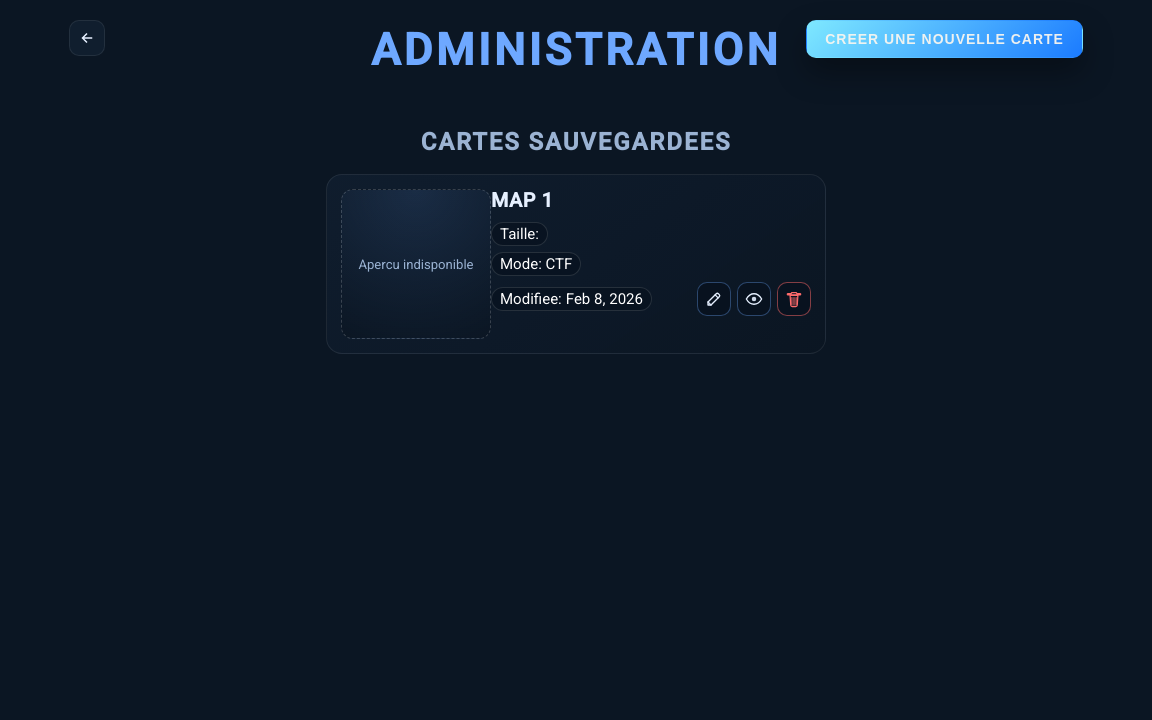
Test: AdminPageComponent › should show an error when delete fails
Expected: the element that starts with "Apercu indisponible" is shown, top-left (326, 174), bottom-right (826, 354)
Click the button named "Supprimer". click: (794, 299)
box: top-left (777, 282), bottom-right (811, 316)
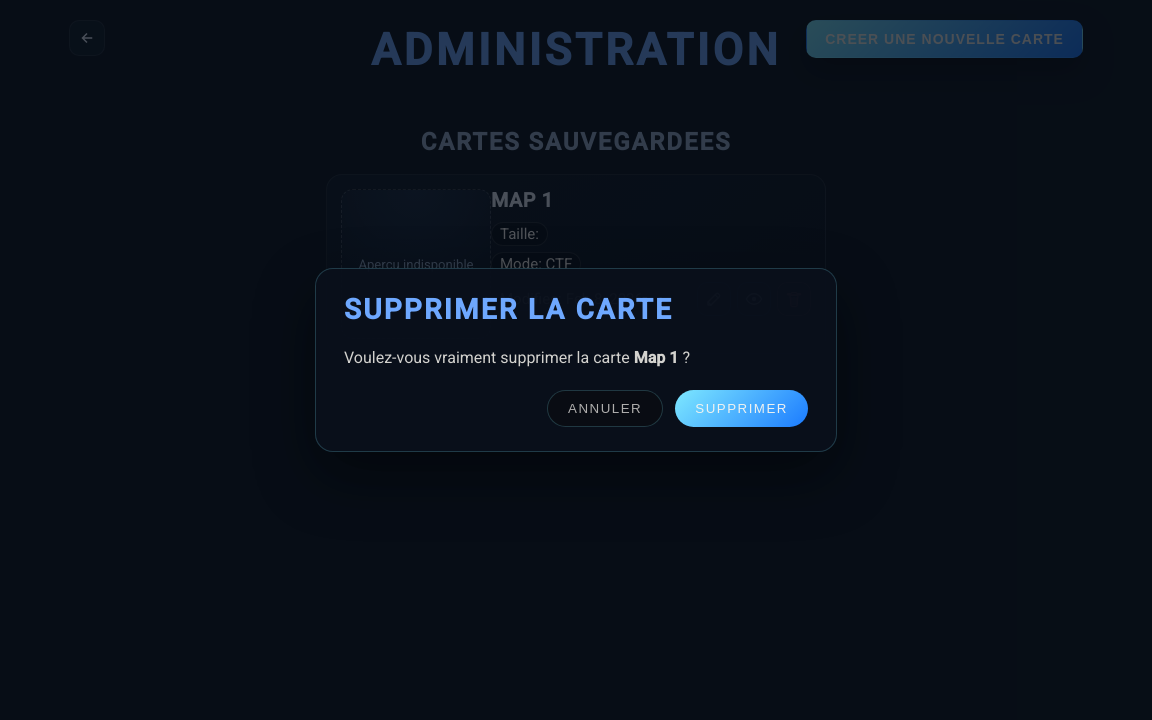
Now the dialog is shown, box top-left (315, 268), bottom-right (837, 452)
Now the button "Supprimer" is shown
Click the button "Supprimer". click: (742, 408)
box: top-left (675, 390), bottom-right (808, 427)
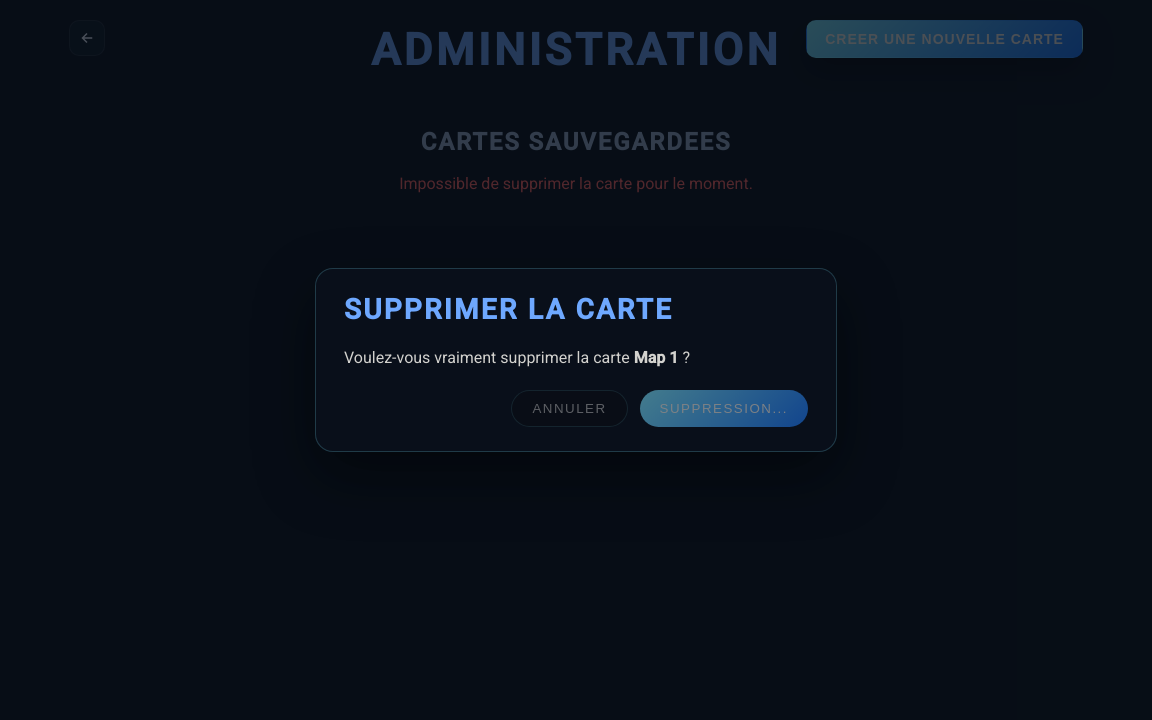
Now the dialog is shown, box top-left (315, 268), bottom-right (837, 452)
Now the text "Impossible de supprimer la carte pour le moment." is shown, box top-left (399, 174), bottom-right (753, 193)
